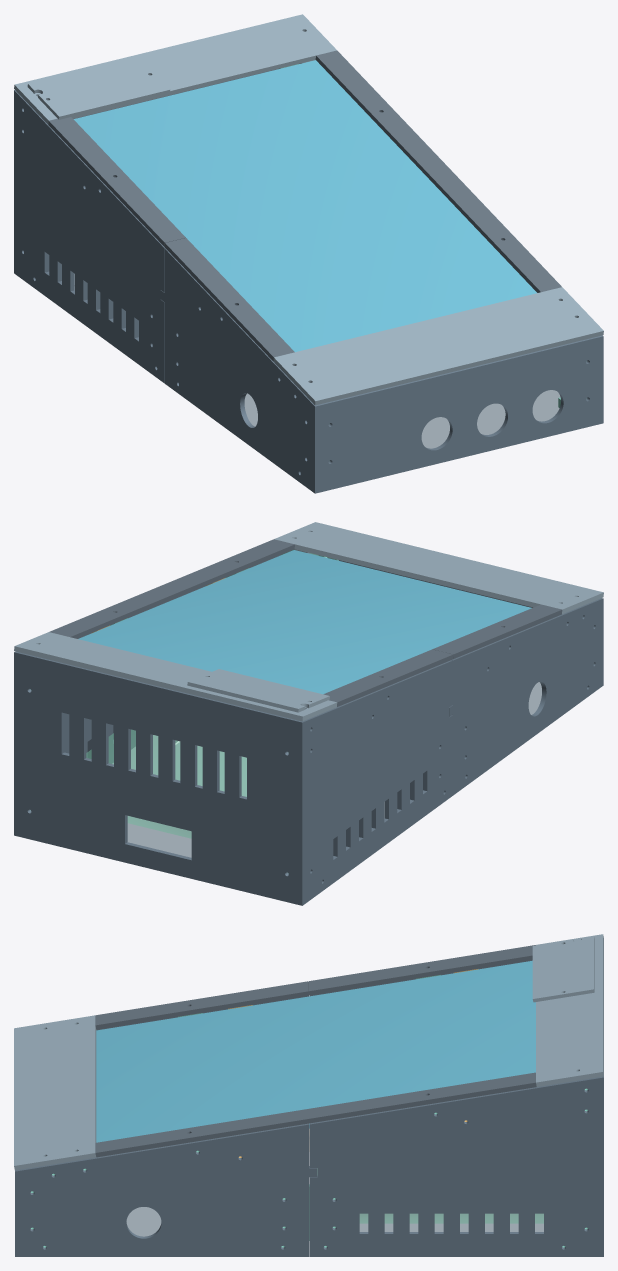
The model's file is cabinet-v1_2.glb.
3 renders of one model, top to bottom at view 1: azimuth 30°, elevation 25°; view 2: azimuth 150°, elevation 25°; view 3: azimuth 270°, elevation 25°, orthographic. The views are drawn at different scales.
Parts seen in each view (by area): view 1: REFERENCE_Monitor, left_rear_wall, front_button_panel, left_front_wall, front_cable_lid, rear_control_deck, bezel_right_a1_a2, control_hatch, bezel_left_rear, bezel_left_front, bottom_front; view 2: rear_vent_panel, REFERENCE_Monitor, left_rear_wall, left_front_wall, front_cable_lid, rear_control_deck, bezel_right_a1_a2, bottom_rear, control_hatch, bezel_left_rear, REFERENCE_Dell_3050, bezel_left_front (+1 smaller); view 3: REFERENCE_Monitor, right_rear_wall, right_front_wall, front_cable_lid, bezel_right_a1_a2, rear_control_deck, control_hatch, bezel_left_rear, bezel_left_front, bottom_rear, bottom_front, REFERENCE_Dell_3050.
Boxes of the visible parts, x1,y1,x2,y2 form: REFERENCE_Monitor: (73, 60, 536, 352); left_rear_wall: (14, 90, 164, 383); front_button_panel: (319, 336, 598, 492); left_front_wall: (160, 248, 319, 493); front_cable_lid: (273, 287, 603, 405); rear_control_deck: (14, 14, 336, 124); bezel_right_a1_a2: (315, 50, 561, 292); control_hatch: (27, 56, 170, 119); bezel_left_rear: (48, 117, 185, 246); bezel_left_front: (164, 238, 294, 360); bottom_front: (244, 390, 560, 448); rear_vent_panel: (18, 652, 299, 904); REFERENCE_Monitor: (78, 550, 531, 694); left_rear_wall: (298, 660, 452, 905); left_front_wall: (449, 598, 603, 795); front_cable_lid: (274, 522, 603, 614); rear_control_deck: (14, 632, 337, 721); bezel_right_a1_a2: (49, 539, 294, 638); bottom_rear: (112, 735, 384, 857); control_hatch: (187, 669, 329, 712); bezel_left_rear: (323, 649, 453, 706); REFERENCE_Dell_3050: (86, 729, 246, 838); bezel_left_front: (432, 604, 562, 659); REFERENCE_Monitor: (96, 960, 535, 1142); right_rear_wall: (309, 1076, 603, 1256); right_front_wall: (15, 1123, 316, 1256); front_cable_lid: (14, 1015, 96, 1170); bezel_right_a1_a2: (95, 1072, 536, 1157); rear_control_deck: (536, 934, 603, 1086); control_hatch: (532, 936, 594, 1002); bezel_left_rear: (308, 945, 535, 995); bezel_left_front: (95, 981, 309, 1029); bottom_rear: (317, 1168, 543, 1231); bottom_front: (126, 1207, 161, 1236); REFERENCE_Dell_3050: (317, 1168, 543, 1223).
Bounding box in the file's own units: 0.26 × 0.1646 × 0.4707.
